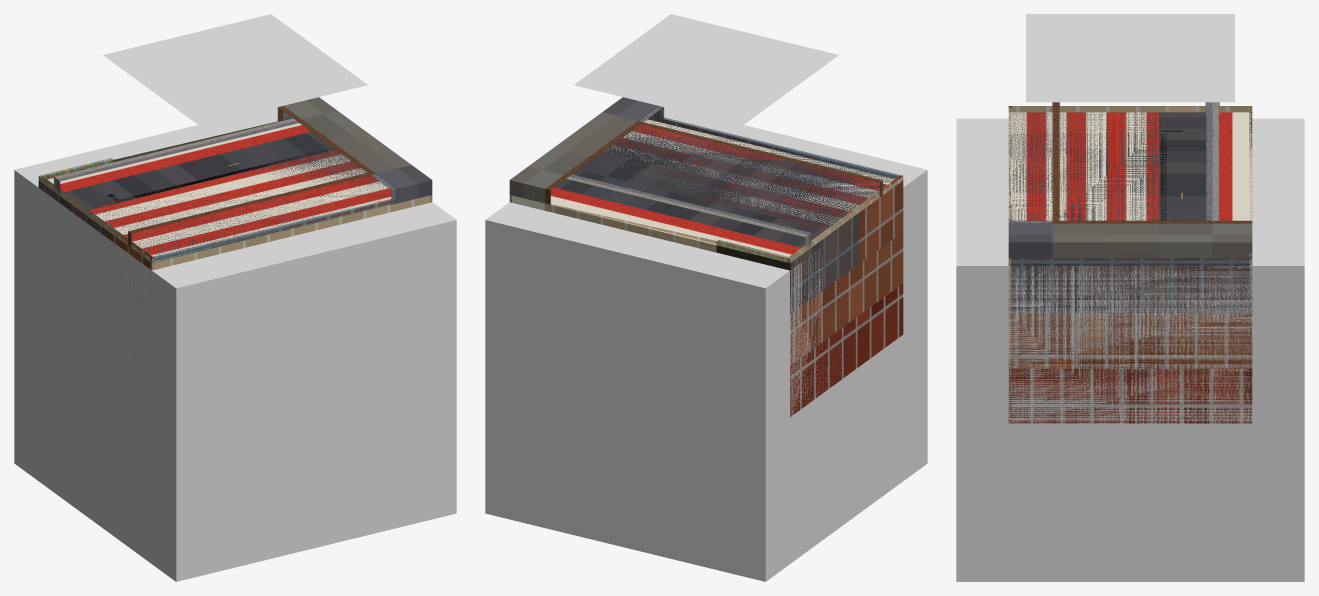
The model's file is wyo_theatre.glb.
The picture shows the model from 3 angles, left to right: view 1: azimuth 30°, elevation 25°; view 2: azimuth 150°, elevation 25°; view 3: azimuth 270°, elevation 25°; orthographic projection. The views are drawn at different scales.
Parts seen in each view (by area): view 1: Cube, albany_courthouse_roof_xb, albany_courthouse__clocks_clock_xb, albany_courthouse__portico_xb, albany_courthouse__wall_0_xb, albany_courthouse_roof_xf, albany_courthouse__cornice_0_xb, albany_courthouse__wall_3_xf, albany_courthouse__cornice_3_xb, albany_courthouse__cornice_2_xb, albany_courthouse__portico_xf; view 2: Cube, albany_courthouse_roof_xb, albany_courthouse__clocks_clock_xb, albany_courthouse__wall_3_xb, albany_courthouse__portico_xb, albany_courthouse__wall_3_xf, albany_courthouse_roof_xf, albany_courthouse__wall_2_xf, albany_courthouse__cornice_0_xb, albany_courthouse__wall_2_xb, albany_courthouse__cornice_2_xb, albany_courthouse__cornice_3_xb; view 3: Cube, albany_courthouse__wall_1_xb, albany_courthouse_roof_xb, albany_courthouse__clocks_clock_xb, albany_courthouse__portico_xb, albany_courthouse__wall_1_xf, albany_courthouse_roof_xf, albany_courthouse__cornice_3_xb, albany_courthouse__wall_0_xb, albany_courthouse__portico_xf.
Part boxes in pixels (<box>): Cube: <box>14,107,456,581</box>; albany_courthouse_roof_xb: <box>48,97,432,259</box>; albany_courthouse__clocks_clock_xb: <box>103,14,367,125</box>; albany_courthouse__portico_xb: <box>89,150,391,261</box>; albany_courthouse__wall_0_xb: <box>150,195,432,360</box>; albany_courthouse_roof_xf: <box>54,107,396,204</box>; albany_courthouse__cornice_0_xb: <box>150,191,431,262</box>; albany_courthouse__wall_3_xf: <box>39,181,153,303</box>; albany_courthouse__cornice_3_xb: <box>39,175,154,262</box>; albany_courthouse__cornice_2_xb: <box>38,116,292,180</box>; albany_courthouse__portico_xf: <box>107,148,332,202</box>; Cube: <box>485,107,927,581</box>; albany_courthouse_roof_xb: <box>509,97,893,261</box>; albany_courthouse__clocks_clock_xb: <box>574,14,838,125</box>; albany_courthouse__wall_3_xb: <box>788,213,903,416</box>; albany_courthouse__portico_xb: <box>604,119,894,229</box>; albany_courthouse__wall_3_xf: <box>788,180,903,313</box>; albany_courthouse_roof_xf: <box>550,106,811,251</box>; albany_courthouse__wall_2_xf: <box>545,203,787,269</box>; albany_courthouse__cornice_0_xb: <box>647,116,901,179</box>; albany_courthouse__wall_2_xb: <box>509,195,791,416</box>; albany_courthouse__cornice_2_xb: <box>510,191,791,262</box>; albany_courthouse__cornice_3_xb: <box>787,175,903,262</box>; Cube: <box>956,118,1304,581</box>; albany_courthouse__wall_1_xb: <box>1008,258,1252,423</box>; albany_courthouse_roof_xb: <box>1008,102,1252,258</box>; albany_courthouse__clocks_clock_xb: <box>1026,14,1234,102</box>; albany_courthouse__portico_xb: <box>1008,112,1182,220</box>; albany_courthouse__wall_1_xf: <box>1009,258,1252,313</box>; albany_courthouse_roof_xf: <box>1008,102,1219,223</box>; albany_courthouse__cornice_3_xb: <box>1008,106,1252,112</box>; albany_courthouse__wall_0_xb: <box>1008,112,1011,423</box>; albany_courthouse__portico_xf: <box>1159,129,1182,220</box>.
Bounding box in the file's own units: 2 × 2.85 × 2.
Materials: 4 (3 with a texture image).
